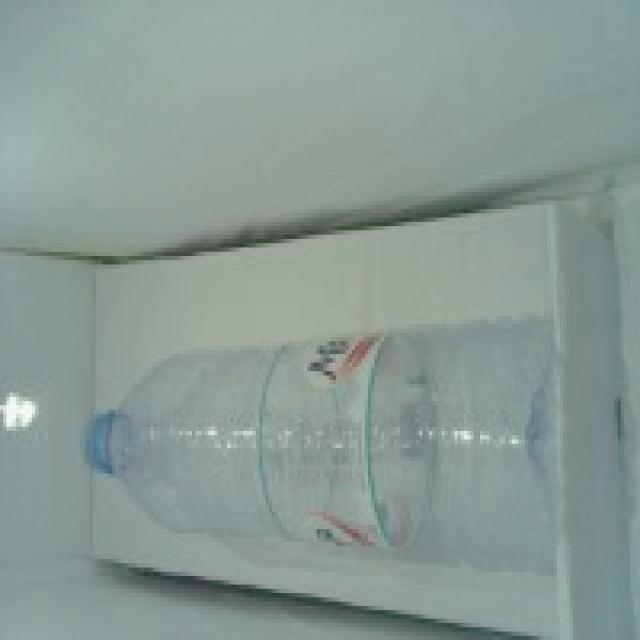bottle: (84, 325, 558, 577)
